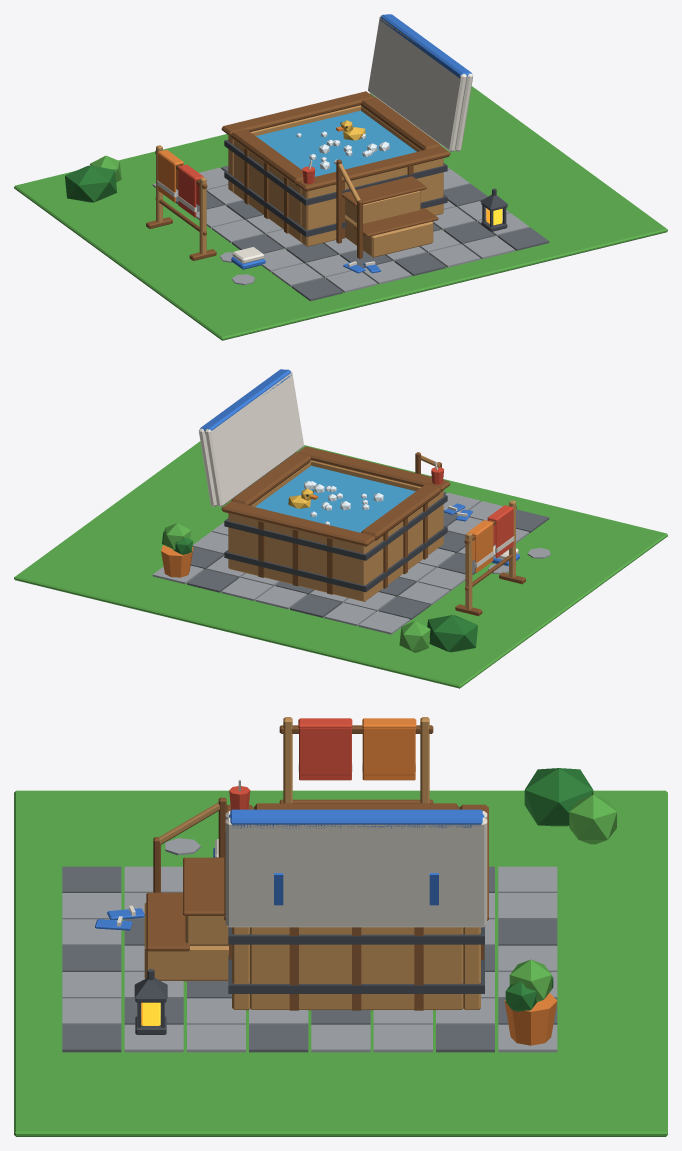
Rendered from backyard-hot-tub.glb.
The picture shows the model from 3 angles, top to bottom: view 1: azimuth 30°, elevation 25°; view 2: azimuth 150°, elevation 25°; view 3: azimuth 270°, elevation 25°; orthographic projection. The views are drawn at different scales.
Parts seen in each view (by area): view 1: Grass_Patch, Lid, Water, Tub_Wall_Front, Tub_Wall_Left, Tub_Rim_Back, Step_Low, Tub_Rim_Front, Bush_A, Step_High, Tub_Rim_Right, Tub_Band_High (+25 smaller); view 2: Grass_Patch, Lid, Tub_Wall_Back, Water, Tub_Wall_Left, Tub_Rim_Back, Tub_Rim_Front, Tub_Band_High, Tub_Band_Low, Bush_A, Tub_Rim_Left, Tub_Rim_Right (+20 smaller); view 3: Grass_Patch, Lid, Tub_Wall_Right, Bush_A, Tub_Band_High, Step_Low, Tub_Band_Low, Towel_Orange_Back, Towel_Red_Back, Step_High_Tread, Step_Low_Tread, Bush_B (+41 smaller).
Boxes of the visible parts, <box> form: Grass_Patch: <box>14,86,667,340</box>; Lid: <box>368,14,473,151</box>; Water: <box>256,110,416,176</box>; Tub_Wall_Front: <box>301,158,443,246</box>; Tub_Wall_Left: <box>234,140,301,242</box>; Tub_Rim_Back: <box>221,91,374,136</box>; Step_Low: <box>345,216,433,257</box>; Tub_Rim_Front: <box>296,146,450,191</box>; Bush_A: <box>65,165,117,202</box>; Step_High: <box>345,190,420,223</box>; Tub_Rim_Right: <box>361,97,440,150</box>; Tub_Band_High: <box>224,139,447,205</box>; Grass_Patch: <box>14,441,667,688</box>; Lid: <box>199,369,304,506</box>; Tub_Wall_Back: <box>228,513,370,601</box>; Water: <box>255,465,415,532</box>; Tub_Wall_Left: <box>370,495,438,597</box>; Tub_Rim_Back: <box>221,501,375,546</box>; Tub_Rim_Front: <box>298,446,450,491</box>; Tub_Band_High: <box>224,495,447,560</box>; Tub_Band_Low: <box>224,526,447,592</box>; Bush_A: <box>427,615,478,652</box>; Tub_Rim_Left: <box>361,484,440,540</box>; Tub_Rim_Right: <box>231,452,310,505</box>; Grass_Patch: <box>14,790,667,1136</box>; Lid: <box>225,809,487,927</box>; Tub_Wall_Right: <box>250,927,463,1010</box>; Bush_A: <box>524,768,593,826</box>; Tub_Band_High: <box>228,927,484,944</box>; Step_Low: <box>144,903,228,981</box>; Tub_Band_Low: <box>228,944,484,993</box>; Towel_Orange_Back: <box>362,728,415,775</box>; Towel_Red_Back: <box>299,728,351,775</box>; Step_High_Tread: <box>183,857,224,915</box>; Step_Low_Tread: <box>146,892,189,951</box>; Bush_B: <box>569,794,616,844</box>.
Size of the model in its own units: 26 by 7.91 by 21.
